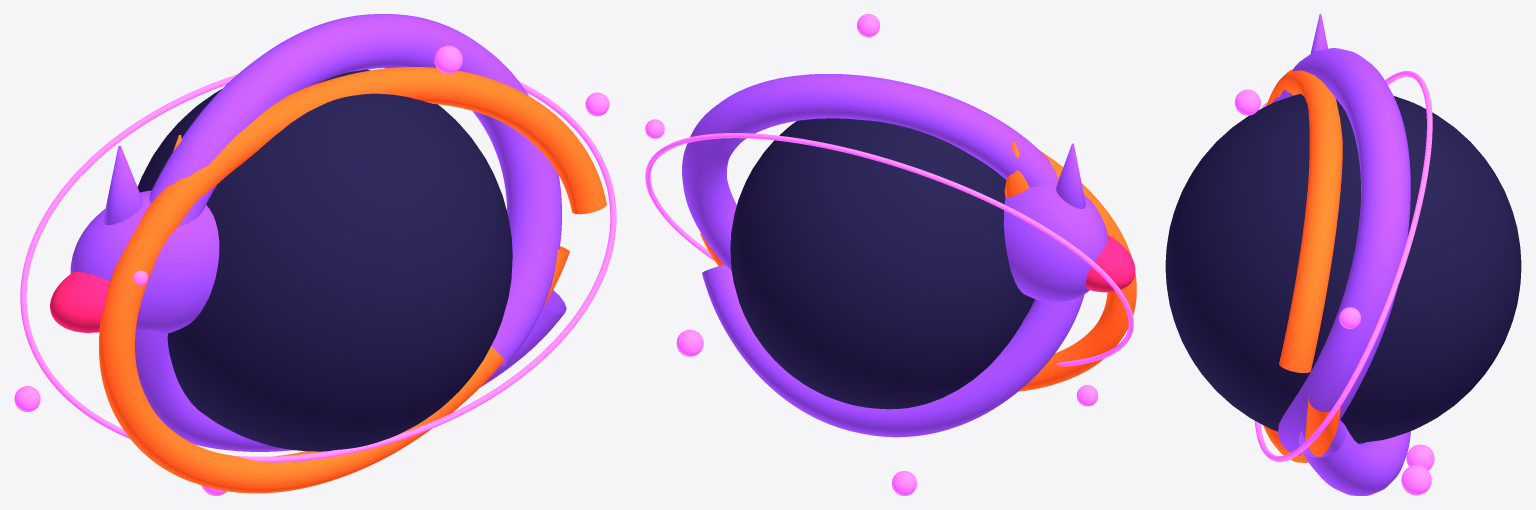
The model's file is firefox-nightly.glb.
3 renders of one model, left to right at view 1: azimuth 30°, elevation 25°; view 2: azimuth 150°, elevation 25°; view 3: azimuth 270°, elevation 25°, orthographic. The views are drawn at different scales.
Visible parts, largest first — view 1: OpenWebCore, NightlyRibbon, FirefoxRibbon, FoxHead, OuterOrbit, FoxSnout, FoxEarLeft, OrbitParticle3; view 2: OpenWebCore, NightlyRibbon, FoxHead, FirefoxRibbon, OuterOrbit, FoxSnout, FoxEarLeft, OrbitParticle5, FoxEarRight; view 3: OpenWebCore, NightlyRibbon, FirefoxRibbon, OuterOrbit, OrbitParticle5, OrbitParticle3, OrbitParticle4, OrbitParticle1.
Part boxes in pixels (box(x1,y1,x2,y2)): OpenWebCore: box(137, 69, 512, 451); NightlyRibbon: box(135, 14, 566, 451); FirefoxRibbon: box(99, 67, 606, 493); FoxHead: box(70, 190, 219, 333); OuterOrbit: box(20, 74, 616, 462); FoxSnout: box(50, 271, 140, 332); FoxEarLeft: box(103, 145, 143, 224); OrbitParticle3: box(434, 45, 462, 73); OpenWebCore: box(730, 118, 1034, 409); NightlyRibbon: box(682, 74, 1084, 437); FoxHead: box(1003, 182, 1107, 302); FirefoxRibbon: box(700, 151, 1136, 391); OuterOrbit: box(645, 133, 1133, 366); FoxSnout: box(1085, 235, 1135, 292); FoxEarLeft: box(1056, 143, 1085, 208); OrbitParticle5: box(676, 329, 703, 356); FoxEarRight: box(1004, 141, 1029, 197); OpenWebCore: box(1165, 94, 1521, 443); NightlyRibbon: box(1278, 48, 1410, 495); FirefoxRibbon: box(1263, 69, 1342, 462); OuterOrbit: box(1254, 71, 1432, 461); OrbitParticle5: box(1401, 465, 1431, 495); OrbitParticle3: box(1234, 89, 1260, 115); OrbitParticle4: box(1406, 444, 1434, 470); OrbitParticle1: box(1339, 307, 1360, 328).
Bounding box in the file's own units: 4.68 × 3.68 × 2.68.
